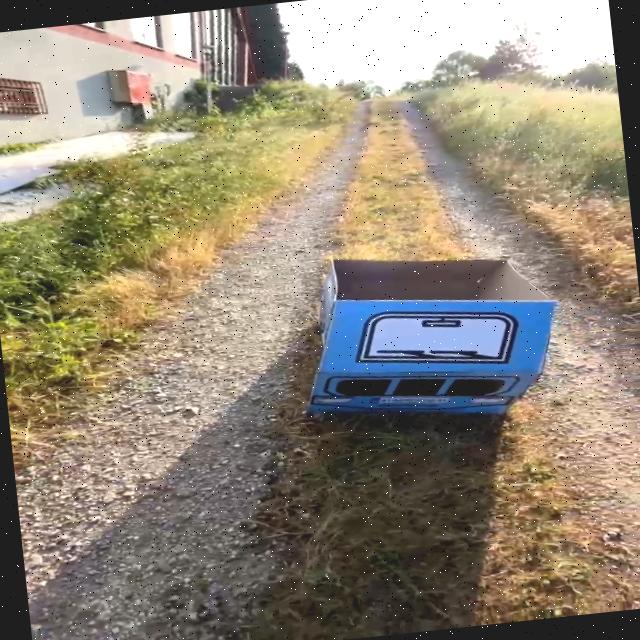blue_car: (255, 211, 605, 491)
